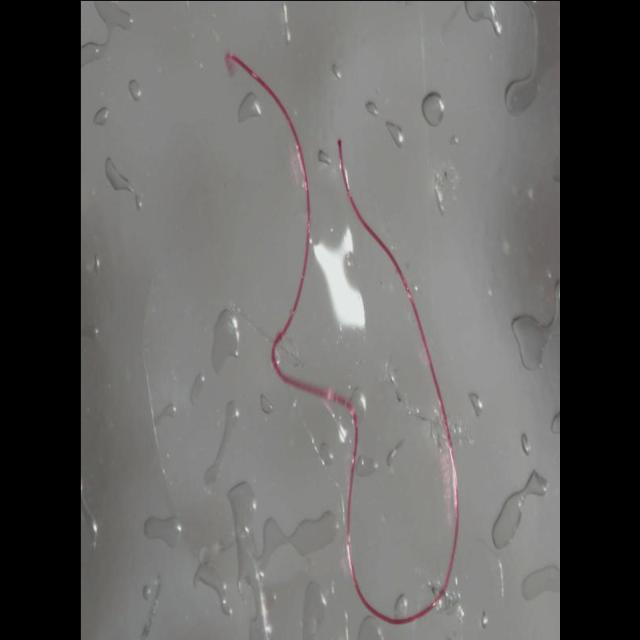Fibre: (223, 47, 463, 626)
